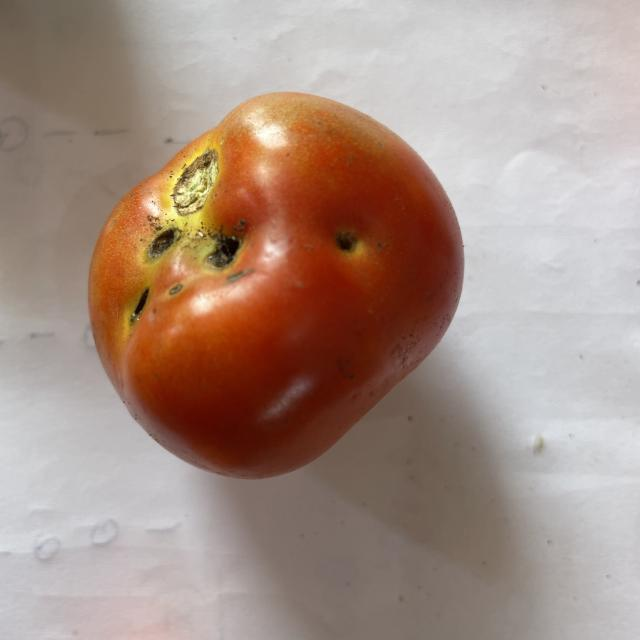fruitworm_bore: (205, 224, 256, 278), (130, 223, 192, 267), (107, 278, 156, 333), (329, 219, 369, 266)
